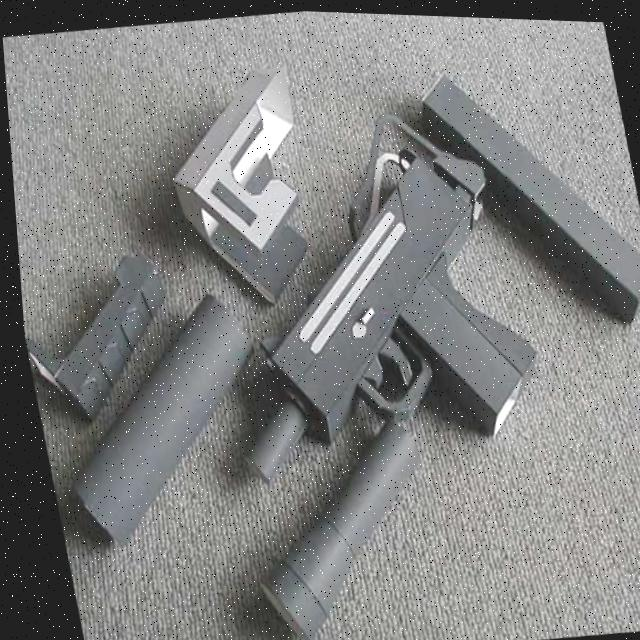firearm: (180, 88, 554, 491)
